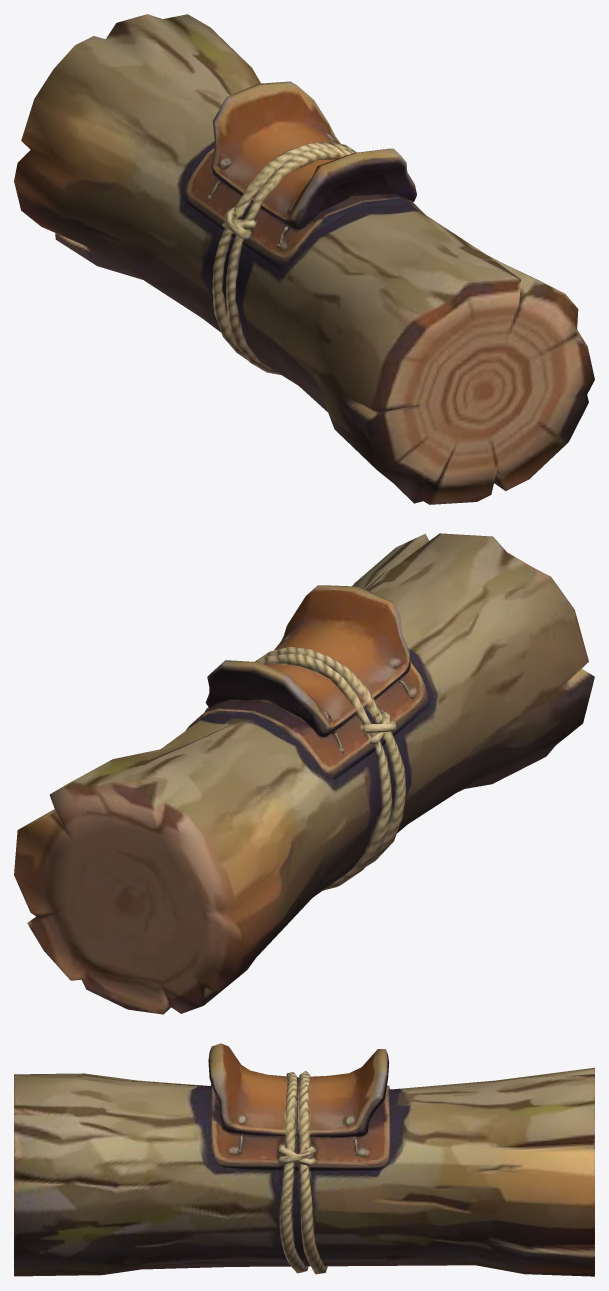
The model's file is rolling_log.glb.
The picture shows the model from 3 angles, top to bottom: view 1: azimuth 30°, elevation 25°; view 2: azimuth 150°, elevation 25°; view 3: azimuth 270°, elevation 25°; orthographic projection. The views are drawn at different scales.
Visible parts, largest first — view 1: tripo_node_5c2e50a9-4e6c-49fe-9169-a37431fcda47; view 2: tripo_node_5c2e50a9-4e6c-49fe-9169-a37431fcda47; view 3: tripo_node_5c2e50a9-4e6c-49fe-9169-a37431fcda47.
Boxes of the visible parts, box(x1,y1,x2,y2) form: tripo_node_5c2e50a9-4e6c-49fe-9169-a37431fcda47: box(14, 14, 594, 504); tripo_node_5c2e50a9-4e6c-49fe-9169-a37431fcda47: box(14, 533, 594, 1014); tripo_node_5c2e50a9-4e6c-49fe-9169-a37431fcda47: box(14, 1043, 594, 1276).
Size of the model in its own units: 1.32 by 1.4 by 3.46.
1 material, 1 textured.
